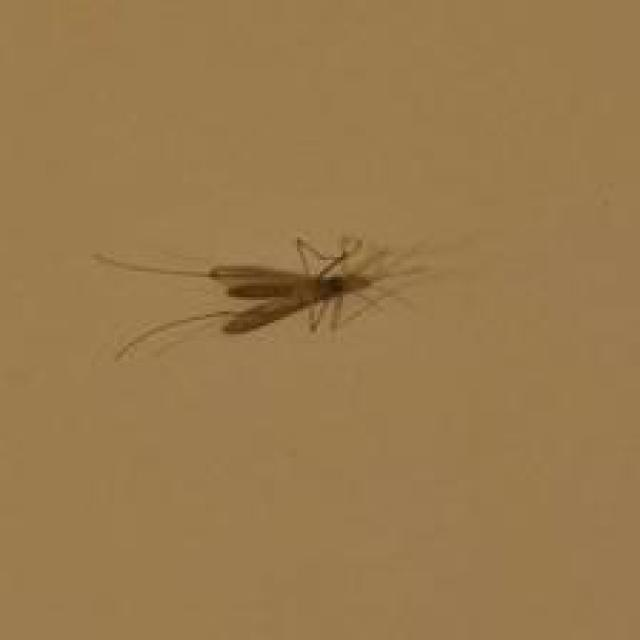Culex: (90, 230, 433, 364)
